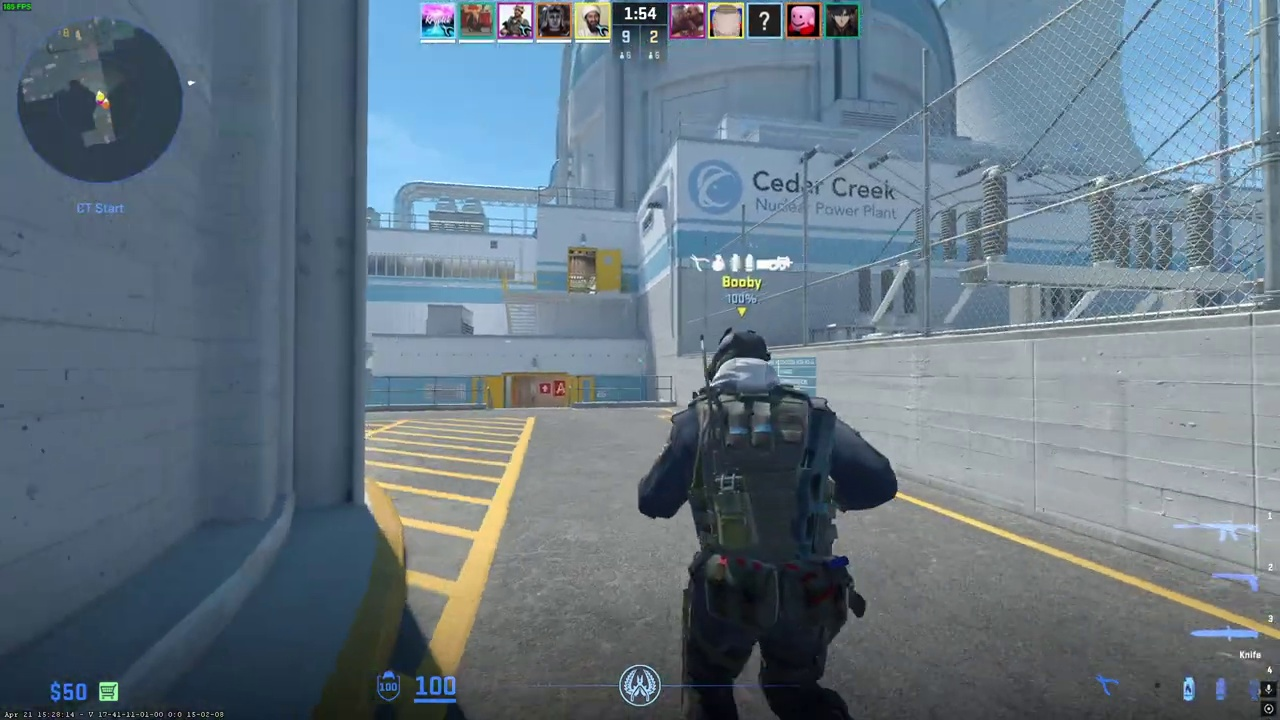CT: (652, 327, 878, 720)
